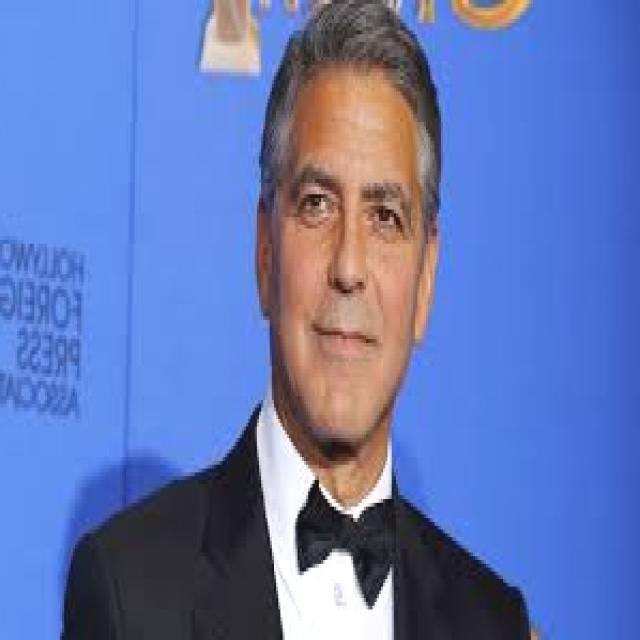normal_face: (256, 29, 433, 454)
